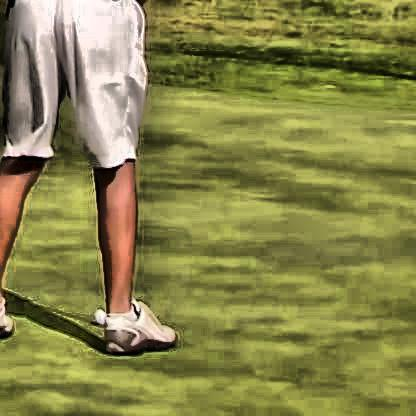golfball: (94, 302, 104, 320)
